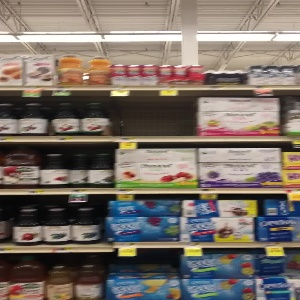void: (112, 90, 195, 140)
